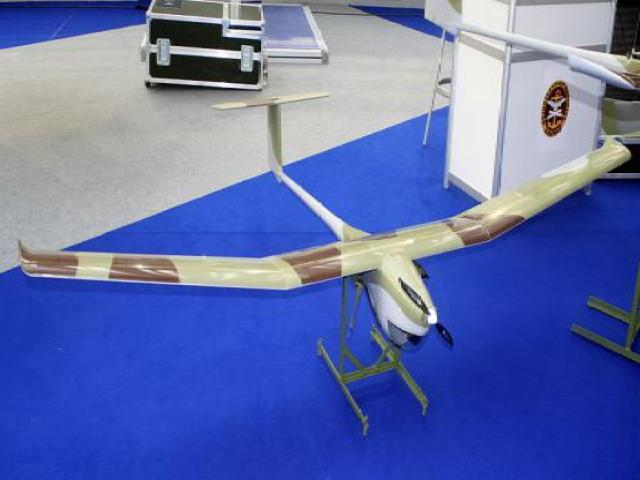uav: (14, 88, 632, 352)
